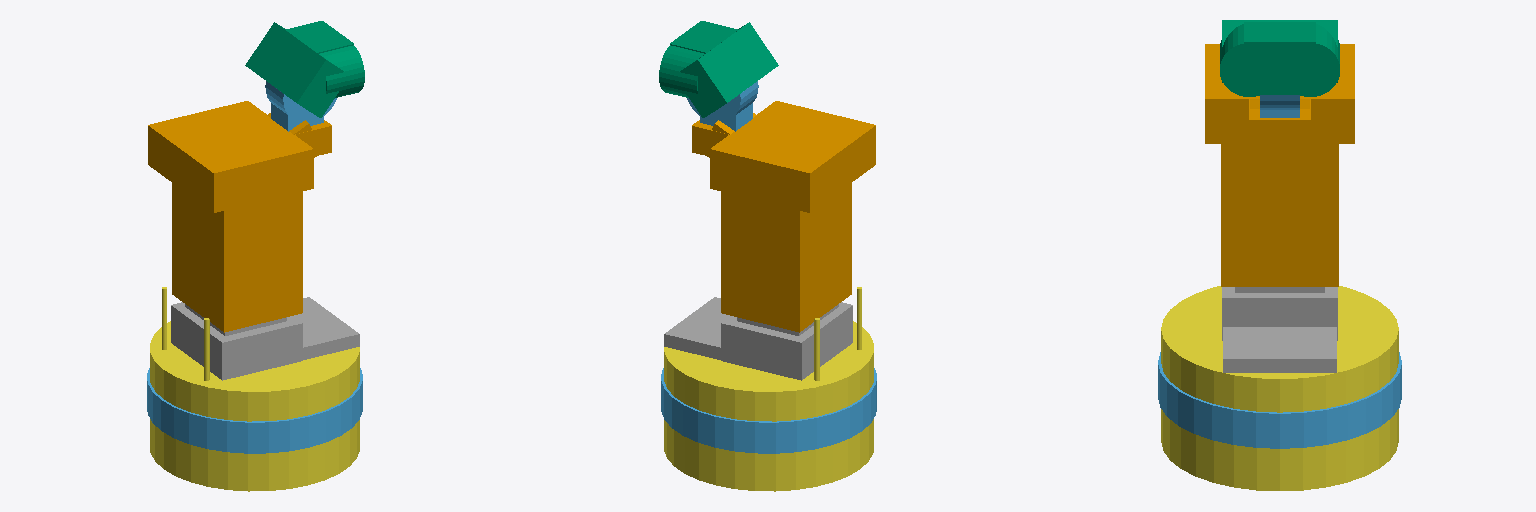
robot.urdf — [local-path]/Downloads/pybullet-planning/models/tiago/tiagolite.:
<?xml version="1.0"?>
<robot name="[local-path]/Downloads/pybullet-planning/models/tiago/tiagolite.urdf" xmlns:xacro="http://ros.org/wiki/xacro">
  <link name="world_link"/>
  <link name="base_link_0"/>
  <link name="base_link_1"/>
  <joint name="x" type="prismatic">
    <limit lower="-5" upper="5"/>
    <parent link="world_link"/>
    <child link="base_link_0"/>
    <axis xyz="1 0 0"/>
  </joint>
  <joint name="y" type="prismatic">
    <limit lower="-5" upper="5"/>
    <parent link="base_link_0"/>
    <child link="base_link_1"/>
    <axis xyz="0 1 0"/>
  </joint>
  <joint name="theta" type="continuous">
    <parent link="base_link_1"/>
    <child link="base_link"/>
    <axis xyz="0 0 1"/>
  </joint>
  <link name="base_link">
    <visual>
      <origin xyz="0 0 0.06" rpy="0 0 0"/>
      <geometry>
        <cylinder radius="0.265" length="0.276"/>
      </geometry>
    </visual>
    <collision>
      <origin xyz="0 0 0.06" rpy="0 0 0"/>
      <geometry>
        <cylinder radius="0.265" length="0.276"/>
      </geometry>
    </collision>
    <visual>
      <origin xyz="-0.201 0.1062 0.28" rpy="0 0 0"/>
      <geometry>
        <cylinder radius="0.007" length="0.173"/>
      </geometry>
    </visual>
    <collision>
      <origin xyz="-0.201 0.1062 0.28" rpy="0 0 0"/>
      <geometry>
        <cylinder radius="0.007" length="0.173"/>
      </geometry>
    </collision>
    <visual>
      <origin xyz="-0.201 -0.1062 0.28" rpy="0 0 0"/>
      <geometry>
        <cylinder radius="0.007" length="0.173"/>
      </geometry>
    </visual>
    <collision>
      <origin xyz="-0.201 -0.1062 0.28" rpy="0 0 0"/>
      <geometry>
        <cylinder radius="0.007" length="0.173"/>
      </geometry>
    </collision>
  </link>
  <joint name="CASTER_WHEEL_BACK_LEFT_JOINT" type="continuous">
    <parent link="base_link"/>
    <child link="caster_back_left_1_link"/>
    <axis xyz="0 0 1"/>
    <origin xyz="-0.1735 0.102 -0.0335" rpy="0 0 0"/>
  </joint>
  <link name="caster_back_left_1_link">
    <visual>
      <origin xyz="-0.003 0 -0.022" rpy="0 0 0"/>
      <geometry>
        <box size="0.036 0.032 0.04"/>
      </geometry>
    </visual>
    <collision>
      <origin xyz="-0.003 0 -0.022" rpy="0 0 0"/>
      <geometry>
        <box size="0.036 0.032 0.04"/>
      </geometry>
    </collision>
  </link>
  <joint name="SMALL_WHEEL_JOINT" type="continuous">
    <parent link="caster_back_left_1_link"/>
    <child link="caster_back_left_2_link"/>
    <axis xyz="0 -0.000004 1"/>
    <origin xyz="-0.016 0 -0.04" rpy="-1.5708 0 0"/>
  </joint>
  <link name="caster_back_left_2_link">
    <visual>
      <origin xyz="0 0 0" rpy="0 0 0"/>
      <geometry>
        <cylinder radius="0.025" length="0.015"/>
      </geometry>
    </visual>
    <collision>
      <origin xyz="0 0 0" rpy="0 0 0"/>
      <geometry>
        <cylinder radius="0.025" length="0.015"/>
      </geometry>
    </collision>
  </link>
  <joint name="CASTER_WHEEL_BACK_RIGHT_JOINT" type="continuous">
    <parent link="base_link"/>
    <child link="caster_back_right_1_link"/>
    <axis xyz="0 0 1"/>
    <origin xyz="-0.1735 -0.102 -0.0335" rpy="0 0 0"/>
  </joint>
  <link name="caster_back_right_1_link">
    <visual>
      <origin xyz="-0.003 0 -0.022" rpy="0 0 0"/>
      <geometry>
        <box size="0.036 0.032 0.04"/>
      </geometry>
    </visual>
    <collision>
      <origin xyz="-0.003 0 -0.022" rpy="0 0 0"/>
      <geometry>
        <box size="0.036 0.032 0.04"/>
      </geometry>
    </collision>
  </link>
  <joint name="SMALL_WHEEL_JOINT_0" type="continuous">
    <parent link="caster_back_right_1_link"/>
    <child link="caster_back_right_2_link"/>
    <axis xyz="0 -0.000004 1"/>
    <origin xyz="-0.016 0 -0.04" rpy="-1.5708 0 0"/>
  </joint>
  <link name="caster_back_right_2_link">
    <visual>
      <origin xyz="0 0 0" rpy="0 0 0"/>
      <geometry>
        <cylinder radius="0.025" length="0.015"/>
      </geometry>
    </visual>
    <collision>
      <origin xyz="0 0 0" rpy="0 0 0"/>
      <geometry>
        <cylinder radius="0.025" length="0.015"/>
      </geometry>
    </collision>
  </link>
  <joint name="CASTER_WHEEL_FRONT_LEFT_JOINT" type="continuous">
    <parent link="base_link"/>
    <child link="caster_front_left_1_link"/>
    <axis xyz="0 0 1"/>
    <origin xyz="0.1695 0.102 -0.0335" rpy="0 0 0"/>
  </joint>
  <link name="caster_front_left_1_link">
    <visual>
      <origin xyz="-0.003 0 -0.022" rpy="0 0 0"/>
      <geometry>
        <box size="0.036 0.032 0.04"/>
      </geometry>
    </visual>
    <collision>
      <origin xyz="-0.003 0 -0.022" rpy="0 0 0"/>
      <geometry>
        <box size="0.036 0.032 0.04"/>
      </geometry>
    </collision>
  </link>
  <joint name="SMALL_WHEEL_JOINT_1" type="continuous">
    <parent link="caster_front_left_1_link"/>
    <child link="caster_front_left_2_link"/>
    <axis xyz="0 -0.000004 1"/>
    <origin xyz="-0.016 0 -0.04" rpy="-1.5708 0 0"/>
  </joint>
  <link name="caster_front_left_2_link">
    <visual>
      <origin xyz="0 0 0" rpy="0 0 0"/>
      <geometry>
        <cylinder radius="0.025" length="0.015"/>
      </geometry>
    </visual>
    <collision>
      <origin xyz="0 0 0" rpy="0 0 0"/>
      <geometry>
        <cylinder radius="0.025" length="0.015"/>
      </geometry>
    </collision>
  </link>
  <joint name="CASTER_WHEEL_FRONT_RIGHT_JOINT" type="continuous">
    <parent link="base_link"/>
    <child link="caster_front_right_1_link"/>
    <axis xyz="0 0 1"/>
    <origin xyz="0.1695 -0.102 -0.0335" rpy="0 0 0"/>
  </joint>
  <link name="caster_front_right_1_link">
    <visual>
      <origin xyz="-0.003 0 -0.022" rpy="0 0 0"/>
      <geometry>
        <box size="0.036 0.032 0.04"/>
      </geometry>
    </visual>
    <collision>
      <origin xyz="-0.003 0 -0.022" rpy="0 0 0"/>
      <geometry>
        <box size="0.036 0.032 0.04"/>
      </geometry>
    </collision>
  </link>
  <joint name="SMALL_WHEEL_JOINT_2" type="continuous">
    <parent link="caster_front_right_1_link"/>
    <child link="caster_front_right_2_link"/>
    <axis xyz="0 -0.000004 1"/>
    <origin xyz="-0.016 0 -0.04" rpy="-1.5708 0 0"/>
  </joint>
  <link name="caster_front_right_2_link">
    <visual>
      <origin xyz="0 0 0" rpy="0 0 0"/>
      <geometry>
        <cylinder radius="0.025" length="0.015"/>
      </geometry>
    </visual>
    <collision>
      <origin xyz="0 0 0" rpy="0 0 0"/>
      <geometry>
        <cylinder radius="0.025" length="0.015"/>
      </geometry>
    </collision>
  </link>
  <joint name="wheel_left_joint" type="continuous">
    <parent link="base_link"/>
    <child link="wheel_left_link"/>
    <axis xyz="0 -0.000004 -1"/>
    <limit effort="10" velocity="10.1523"/>
    <origin xyz="0 0.2022 0" rpy="1.5708 0 0"/>
  </joint>
  <link name="wheel_left_link">
    <visual>
      <origin xyz="0 0 0.0002" rpy="0 0 0"/>
      <geometry>
        <cylinder radius="0.0985" length="0.04"/>
      </geometry>
    </visual>
    <collision>
      <origin xyz="0 0 0.0002" rpy="0 0 0"/>
      <geometry>
        <cylinder radius="0.0985" length="0.04"/>
      </geometry>
    </collision>
  </link>
  <joint name="wheel_right_joint" type="continuous">
    <parent link="base_link"/>
    <child link="wheel_right_link"/>
    <axis xyz="0 -0.000004 -1"/>
    <limit effort="10" velocity="10.1523"/>
    <origin xyz="0 -0.2022 0.0002" rpy="1.5708 0 0"/>
  </joint>
  <link name="wheel_right_link">
    <visual>
      <origin xyz="0 0 -0.0002" rpy="0 0 0"/>
      <geometry>
        <cylinder radius="0.0985" length="0.04"/>
      </geometry>
    </visual>
    <collision>
      <origin xyz="0 0 -0.0002" rpy="0 0 0"/>
      <geometry>
        <cylinder radius="0.0985" length="0.04"/>
      </geometry>
    </collision>
  </link>
  <link name="base_sonar_01_link">
  </link>
  <joint name="base_link_base_sonar_01_link_joint" type="fixed">
    <parent link="base_link"/>
    <child link="base_sonar_01_link"/>
    <origin xyz="-0.183 -0.183 0.1728" rpy="0 0 -2.356185"/>
  </joint>
  <link name="base_sonar_02_link">
  </link>
  <joint name="base_link_base_sonar_02_link_joint" type="fixed">
    <parent link="base_link"/>
    <child link="base_sonar_02_link"/>
    <origin xyz="-0.259 0 0.173" rpy="0 0 -3.141585"/>
  </joint>
  <link name="base_sonar_03_link">
  </link>
  <joint name="base_link_base_sonar_03_link_joint" type="fixed">
    <parent link="base_link"/>
    <child link="base_sonar_03_link"/>
    <origin xyz="-0.183 0.183 0.173" rpy="0 0 2.3562"/>
  </joint>
  <link name="base_cover_link">
    <visual>
      <origin xyz="0 0 0.043" rpy="0 0 0"/>
      <geometry>
        <cylinder radius="0.272" length="0.086"/>
      </geometry>
    </visual>
    <collision>
      <origin xyz="0 0 0.043" rpy="0 0 0"/>
      <geometry>
        <cylinder radius="0.272" length="0.086"/>
      </geometry>
    </collision>
  </link>
  <joint name="base_link_base_cover_link_joint" type="fixed">
    <parent link="base_link"/>
    <child link="base_cover_link"/>
    <origin xyz="0 0 0.03" rpy="0 0 0"/>
  </joint>
  <link name="base_footprint">
  </link>
  <joint name="base_link_base_footprint_joint" type="fixed">
    <parent link="base_link"/>
    <child link="base_footprint"/>
    <origin xyz="0 0 -0.095" rpy="0 0 0"/>
  </joint>
  <link name="gyro">
  </link>
  <joint name="base_link_gyro_joint" type="fixed">
    <parent link="base_link"/>
    <child link="gyro"/>
    <origin xyz="0 0 0" rpy="0 0 0"/>
  </joint>
  <link name="inertial unit">
  </link>
  <joint name="base_link_inertial unit_joint" type="fixed">
    <parent link="base_link"/>
    <child link="inertial unit"/>
    <origin xyz="0 0 0" rpy="0 0 0"/>
  </joint>
  <link name="accelerometer">
  </link>
  <joint name="base_link_accelerometer_joint" type="fixed">
    <parent link="base_link"/>
    <child link="accelerometer"/>
    <origin xyz="0 0 0" rpy="0 0 0"/>
  </joint>
  <link name="Hokuyo URG-04LX-UG01">
    <visual>
      <origin xyz="0 0 -0.018" rpy="1.570741 0.000118 -1.570741"/>
      <geometry>
        <box size="0.05 0.07 0.05"/>
      </geometry>
    </visual>
    <collision>
      <origin xyz="0 0 -0.018" rpy="1.570741 0.000118 -1.570741"/>
      <geometry>
        <box size="0.05 0.07 0.05"/>
      </geometry>
    </collision>
  </link>
  <joint name="base_link_Hokuyo URG-04LX-UG01_joint" type="fixed">
    <parent link="base_link"/>
    <child link="Hokuyo URG-04LX-UG01"/>
    <origin xyz="0.202 0 -0.004" rpy="0 0 0"/>
  </joint>
  <link name="Torso">
    <visual>
      <origin xyz="0 0 0.275" rpy="0 0 0"/>
      <geometry>
        <box size="0.18 0.2 0.55"/>
      </geometry>
    </visual>
    <collision>
      <origin xyz="0 0 0.275" rpy="0 0 0"/>
      <geometry>
        <box size="0.18 0.2 0.55"/>
      </geometry>
    </collision>
    <visual>
      <origin xyz="0.085 0 0.02" rpy="0 0 0"/>
      <geometry>
        <box size="0.4 0.254 0.04"/>
      </geometry>
    </visual>
    <collision>
      <origin xyz="0.085 0 0.02" rpy="0 0 0"/>
      <geometry>
        <box size="0.4 0.254 0.04"/>
      </geometry>
    </collision>
    <visual>
      <origin xyz="0.001 0 0.05" rpy="0 0 0"/>
      <geometry>
        <box size="0.233 0.26 0.12"/>
      </geometry>
    </visual>
    <collision>
      <origin xyz="0.001 0 0.05" rpy="0 0 0"/>
      <geometry>
        <box size="0.233 0.26 0.12"/>
      </geometry>
    </collision>
  </link>
  <joint name="base_link_Torso_joint" type="fixed">
    <parent link="base_link"/>
    <child link="Torso"/>
    <origin xyz="-0.054 0 0.193" rpy="0 0 0"/>
  </joint>
  <joint name="torso_lift_joint" type="prismatic">
    <parent link="Torso"/>
    <child link="torso_lift_link"/>
    <axis xyz="0 0 1"/>
    <origin xyz="0 0 0.6" rpy="0 0 0"/>
    <limit effort="2000" lower="0" upper="0.35" velocity="0.07"/>
  </joint>
  <link name="torso_lift_link">
    <visual>
      <origin xyz="0.164 0 -0.032" rpy="0 0 0"/>
      <geometry>
        <box size="0.15 0.138 0.074"/>
      </geometry>
    </visual>
    <collision>
      <origin xyz="0.164 0 -0.032" rpy="0 0 0"/>
      <geometry>
        <box size="0.15 0.138 0.074"/>
      </geometry>
    </collision>
    <visual>
      <origin xyz="0.1389 0 -0.0432" rpy="0 -0.43 0"/>
      <geometry>
        <box size="0.12 0.134 0.097"/>
      </geometry>
    </visual>
    <collision>
      <origin xyz="0.1389 0 -0.0432" rpy="0 -0.43 0"/>
      <geometry>
        <box size="0.12 0.134 0.097"/>
      </geometry>
    </collision>
    <visual>
      <origin xyz="-0.016 0 -0.05" rpy="0 0 0"/>
      <geometry>
        <box size="0.291 0.333 0.11"/>
      </geometry>
    </visual>
    <collision>
      <origin xyz="-0.016 0 -0.05" rpy="0 0 0"/>
      <geometry>
        <box size="0.291 0.333 0.11"/>
      </geometry>
    </collision>
    <visual>
      <origin xyz="0.003 0 -0.283" rpy="0 0 0"/>
      <geometry>
        <box size="0.228 0.263 0.358"/>
      </geometry>
    </visual>
    <collision>
      <origin xyz="0.003 0 -0.283" rpy="0 0 0"/>
      <geometry>
        <box size="0.228 0.263 0.358"/>
      </geometry>
    </collision>
  </link>
  <joint name="head_1_joint" type="revolute">
    <parent link="torso_lift_link"/>
    <child link="head_1_link"/>
    <axis xyz="0 0 1"/>
    <limit effort="5.197" lower="-1.24" upper="1.24" velocity="3"/>
    <origin xyz="0.182 0 0" rpy="0 0 0"/>
  </joint>
  <link name="head_1_link">
    <visual>
      <origin xyz="0.01 0 0.097" rpy="-1.5708 0 0"/>
      <geometry>
        <cylinder radius="0.082" length="0.09"/>
      </geometry>
    </visual>
    <collision>
      <origin xyz="0.01 0 0.097" rpy="-1.5708 0 0"/>
      <geometry>
        <cylinder radius="0.082" length="0.09"/>
      </geometry>
    </collision>
    <visual>
      <origin xyz="-0.005 0 0.005" rpy="0 0 0"/>
      <geometry>
        <box size="0.103 0.088 0.103"/>
      </geometry>
    </visual>
    <collision>
      <origin xyz="-0.005 0 0.005" rpy="0 0 0"/>
      <geometry>
        <box size="0.103 0.088 0.103"/>
      </geometry>
    </collision>
  </link>
  <joint name="head_2_joint" type="revolute">
    <parent link="head_1_link"/>
    <child link="head_2_link"/>
    <axis xyz="0 0.000004 1"/>
    <limit effort="2.77" lower="-0.98" upper="0.79" velocity="3"/>
    <origin xyz="0.005 0 0.098" rpy="1.5708 0 0"/>
  </joint>
  <link name="head_2_link">
    <visual>
      <origin xyz="-0.009 0.0466 0" rpy="0 0 -0.7"/>
      <geometry>
        <box size="0.092 0.132 0.26"/>
      </geometry>
    </visual>
    <collision>
      <origin xyz="-0.009 0.0466 0" rpy="0 0 -0.7"/>
      <geometry>
        <box size="0.092 0.132 0.26"/>
      </geometry>
    </collision>
    <visual>
      <origin xyz="0.008 -0.019 0" rpy="0 0 -1.5708"/>
      <geometry>
        <cylinder radius="0.03" length="0.132"/>
      </geometry>
    </visual>
    <collision>
      <origin xyz="0.008 -0.019 0" rpy="0 0 -1.5708"/>
      <geometry>
        <cylinder radius="0.03" length="0.132"/>
      </geometry>
    </collision>
    <visual>
      <origin xyz="0.054 0.06 0" rpy="0 0 0"/>
      <geometry>
        <box size="0.111 0.13 0.16"/>
      </geometry>
    </visual>
    <collision>
      <origin xyz="0.054 0.06 0" rpy="0 0 0"/>
      <geometry>
        <box size="0.111 0.13 0.16"/>
      </geometry>
    </collision>
    <visual>
      <origin xyz="0.053 0.056 -0.068" rpy="3.141593 -1.570793 3.141593"/>
      <geometry>
        <cylinder radius="0.0667" length="0.111"/>
      </geometry>
    </visual>
    <collision>
      <origin xyz="0.053 0.056 -0.068" rpy="3.141593 -1.570793 3.141593"/>
      <geometry>
        <cylinder radius="0.0667" length="0.111"/>
      </geometry>
    </collision>
    <visual>
      <origin xyz="0.053 0.056 0.068" rpy="3.141593 -1.570793 3.141593"/>
      <geometry>
        <cylinder radius="0.0667" length="0.111"/>
      </geometry>
    </visual>
    <collision>
      <origin xyz="0.053 0.056 0.068" rpy="3.141593 -1.570793 3.141593"/>
      <geometry>
        <cylinder radius="0.0667" length="0.111"/>
      </geometry>
    </collision>
  </link>
  <link name="Astra">
    <visual>
      <origin xyz="0.006 0 0.034" rpy="0 0 0"/>
      <geometry>
        <box size="0.04 0.165 0.029"/>
      </geometry>
    </visual>
    <collision>
      <origin xyz="0.006 0 0.034" rpy="0 0 0"/>
      <geometry>
        <box size="0.04 0.165 0.029"/>
      </geometry>
    </collision>
    <visual>
      <origin xyz="-0.009 0 0.007" rpy="0 0 0"/>
      <geometry>
        <box size="0.061 0.06 0.014"/>
      </geometry>
    </visual>
    <collision>
      <origin xyz="-0.009 0 0.007" rpy="0 0 0"/>
      <geometry>
        <box size="0.061 0.06 0.014"/>
      </geometry>
    </collision>
  </link>
  <joint name="head_2_link_Astra_joint" type="fixed">
    <parent link="head_2_link"/>
    <child link="Astra"/>
    <origin xyz="0.079 0.0452 -0.009" rpy="-1.5708 0 0"/>
  </joint>
  <link name="Astra depth">
  </link>
  <joint name="Astra_Astra depth_joint" type="fixed">
    <parent link="Astra"/>
    <child link="Astra depth"/>
    <origin xyz="0.027 0.037 0.034" rpy="0 0 0"/>
  </joint>
  <link name="Astra rgb">
  </link>
  <joint name="Astra_Astra rgb_joint" type="fixed">
    <parent link="Astra"/>
    <child link="Astra rgb"/>
    <origin xyz="0.027 0.011 0.034" rpy="-1.570796 0 -1.570796"/>
  </joint>
  <link name="gps">
  </link>
  <joint name="base_link_gps_joint" type="fixed">
    <parent link="base_link"/>
    <child link="gps"/>
    <origin xyz="0 0 0" rpy="0 0 0"/>
  </joint>
  <link name="compass">
  </link>
  <joint name="base_link_compass_joint" type="fixed">
    <parent link="base_link"/>
    <child link="compass"/>
    <origin xyz="0 0 0" rpy="0 0 0"/>
  </joint>
  <link name="display">
  </link>
  <joint name="base_link_display_joint" type="fixed">
    <parent link="base_link"/>
    <child link="display"/>
    <origin xyz="0 0 0" rpy="0 0 0"/>
  </joint>
</robot>

--- Facts derived from the render (not from the file) ---
The picture shows the robot from 3 angles, left to right: view 1: azimuth 30°, elevation 25°; view 2: azimuth 150°, elevation 25°; view 3: azimuth 270°, elevation 25°; orthographic projection.
Robot: [local-path]/Downloads/pybullet-planning/models/tiago/tiagolite. — 33 links, 32 joints (2 revolute, 11 continuous, 3 prismatic, 16 fixed); root link world_link; default pose: every joint at zero.
Links seen in each view (by area): view 1: torso_lift_link, base_link, Torso, head_2_link, base_cover_link, head_1_link; view 2: torso_lift_link, base_link, Torso, head_2_link, base_cover_link, head_1_link; view 3: base_link, torso_lift_link, Torso, base_cover_link, head_2_link, head_1_link.
Boxes of the visible links, x1=… form: torso_lift_link: x1=148, y1=101, x2=331, y2=332; base_link: x1=150, y1=287, x2=359, y2=491; Torso: x1=171, y1=297, x2=359, y2=380; head_2_link: x1=245, y1=21, x2=364, y2=117; base_cover_link: x1=147, y1=368, x2=362, y2=453; head_1_link: x1=265, y1=81, x2=336, y2=131; torso_lift_link: x1=692, y1=101, x2=875, y2=332; base_link: x1=664, y1=287, x2=873, y2=491; Torso: x1=664, y1=297, x2=852, y2=380; head_2_link: x1=659, y1=21, x2=778, y2=117; base_cover_link: x1=661, y1=368, x2=876, y2=453; head_1_link: x1=687, y1=81, x2=758, y2=131; base_link: x1=1161, y1=286, x2=1398, y2=490; torso_lift_link: x1=1205, y1=44, x2=1354, y2=286; Torso: x1=1222, y1=287, x2=1337, y2=372; base_cover_link: x1=1158, y1=352, x2=1401, y2=448; head_2_link: x1=1220, y1=20, x2=1339, y2=96; head_1_link: x1=1260, y1=95, x2=1299, y2=117.
Bounding box of the posed robot: 0.544 × 0.544 × 1.12 m (x, y, z).
Geometry: primitives only (box / cylinder / sphere), no mesh files.
